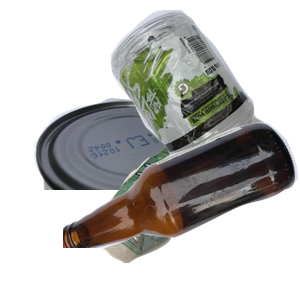glass: (63, 120, 300, 300)
metal: (16, 96, 244, 276)
plastic: (73, 10, 300, 190)
trash: (84, 133, 292, 300)
